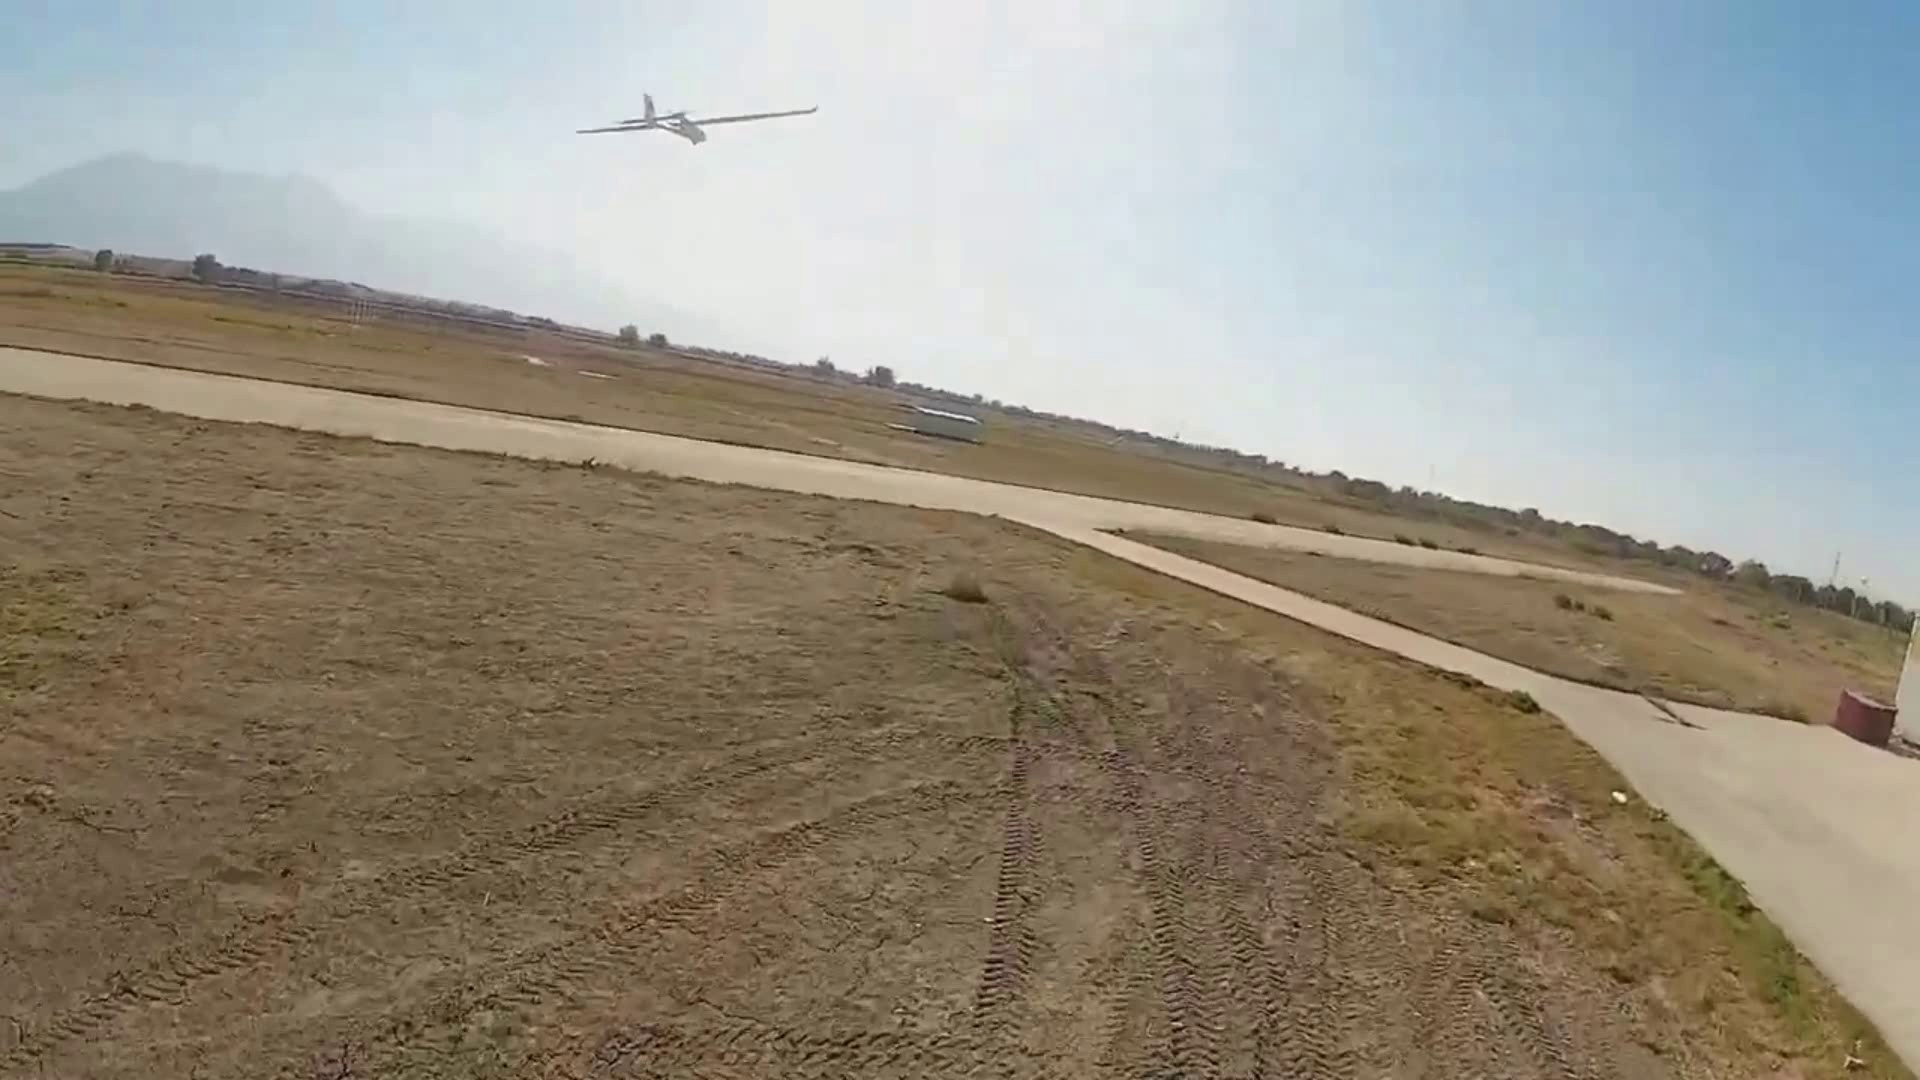airplane: (578, 91, 822, 146)
